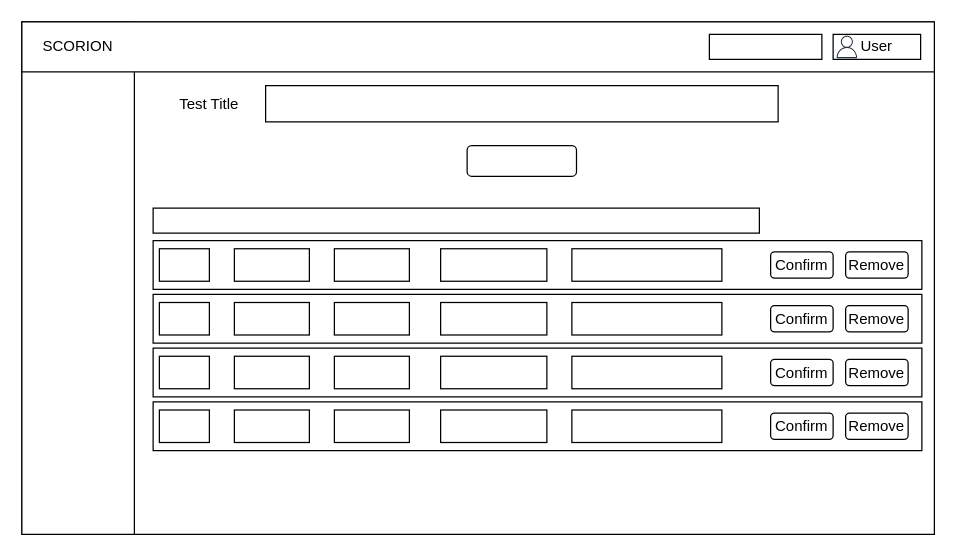
The diagram is 956 pixels wide and 556 high, and some of its shapes have lost their labels. The shapes that lost their labels are listed below. From the top down, each one's centre as x and y in pixels, then its label:
At (765,46): "Notifications".
At (521,103): "TITLE OF TEST".
At (521,160): "Back to Details".
At (455,220): "ID N AME WEIGHT TEST LOG COMPLETION STATE".
At (77,277): "Tests Sprints Modules User & Roles".
